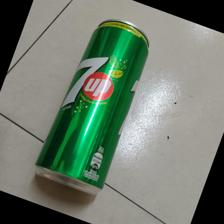7up: (33, 18, 151, 197)
